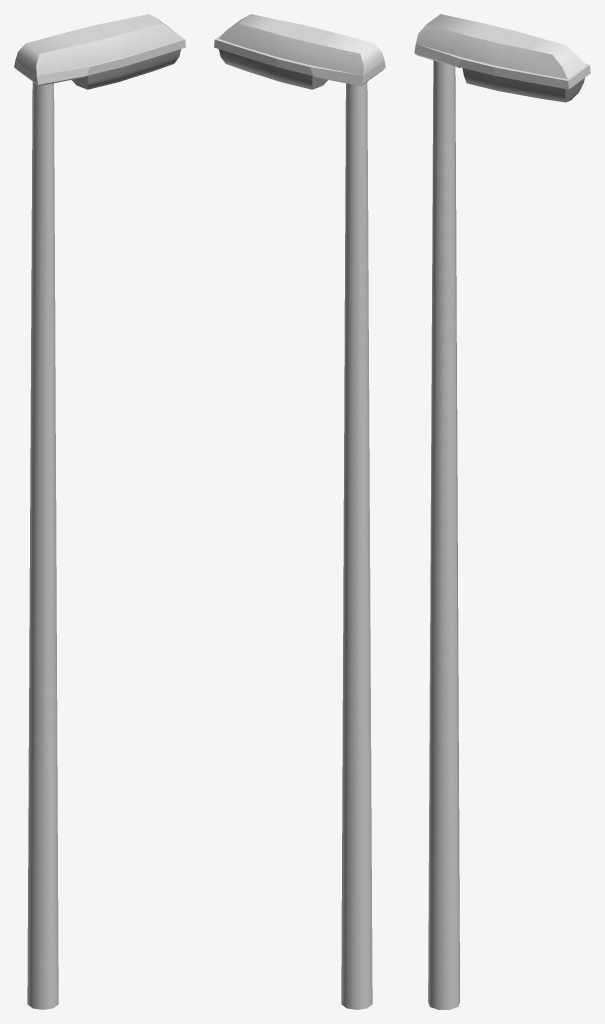
Rendered from Model_Streetlight_05.fbx.
3 renders of one model, left to right at view 1: azimuth 30°, elevation 25°; view 2: azimuth 150°, elevation 25°; view 3: azimuth 330°, elevation 25°, orthographic. The views are drawn at different scales.
Parts seen in each view (by area): view 1: LampPost_Short_Straight; view 2: LampPost_Short_Straight; view 3: LampPost_Short_Straight.
Part boxes in pixels (x1=…): LampPost_Short_Straight: x1=14, y1=14, x2=185, y2=1009; LampPost_Short_Straight: x1=214, y1=14, x2=385, y2=1009; LampPost_Short_Straight: x1=414, y1=14, x2=590, y2=1009.
Bounding box in the file's own units: 55.02 × 337 × 19.1.
